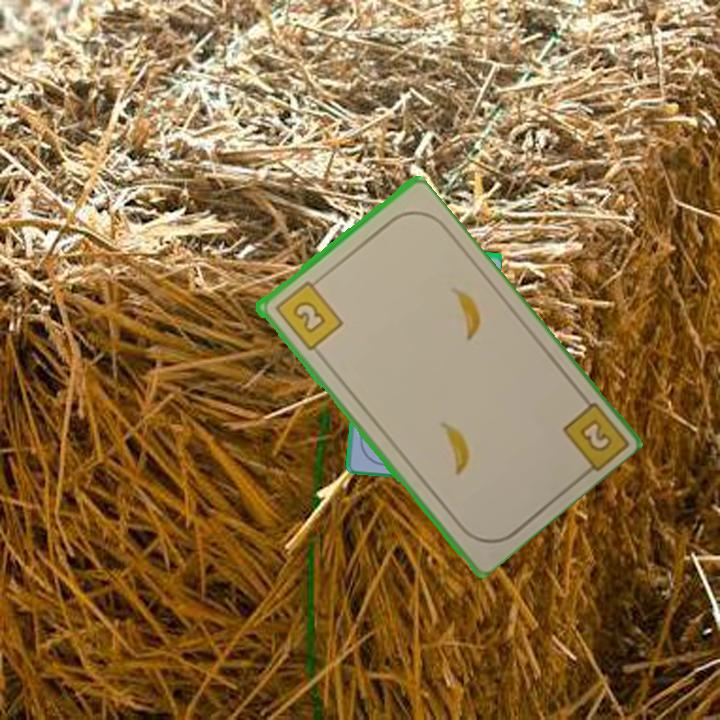2b: (270, 275, 345, 353), (575, 415, 615, 456)
